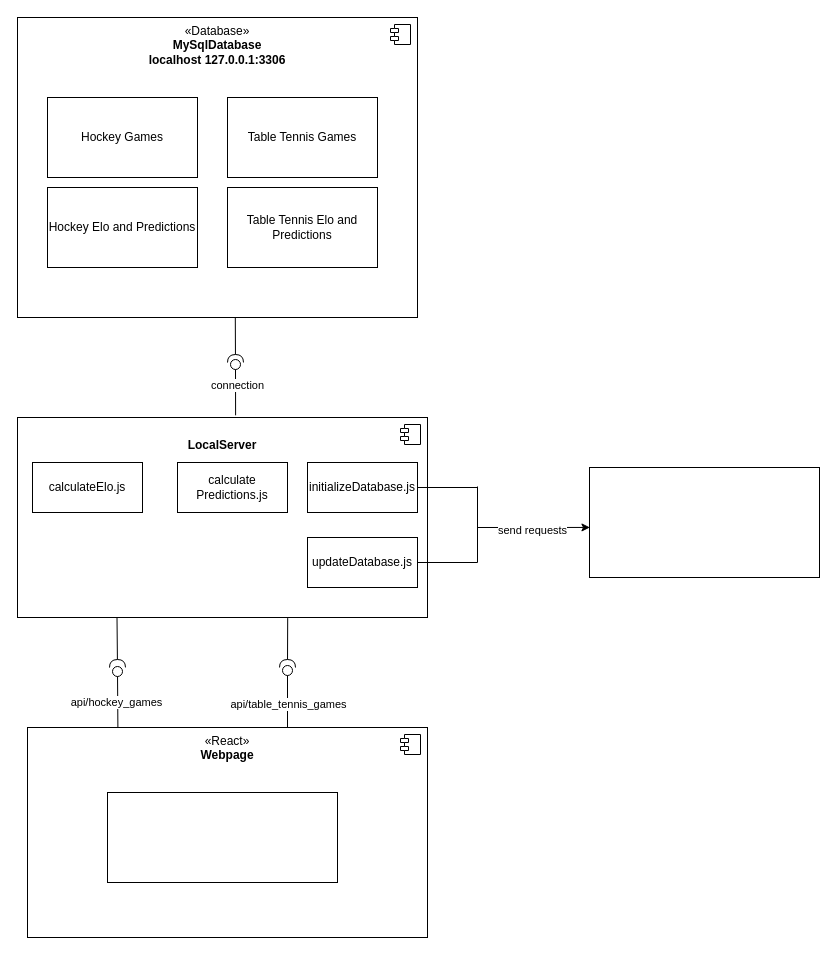
This 837x955 diagram has some shape labels left out. The shapes that lost their labels are listed below. From the top down, each one's centre as x and y in pixels, then its label:
(704,522): www.sport.de
(222,837): App.js UI Display
